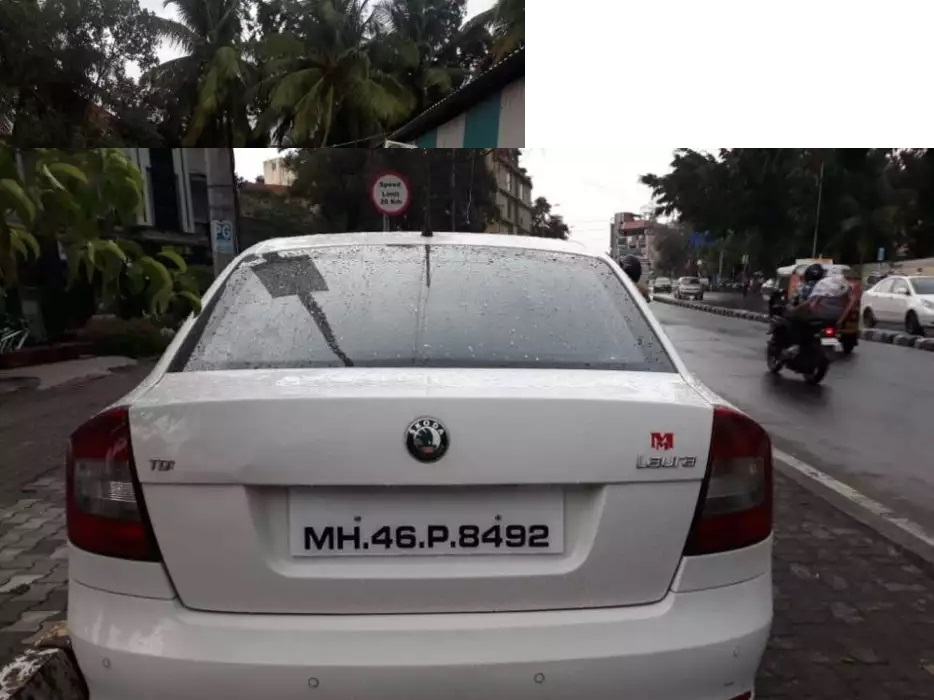licenseplate: (285, 484, 568, 557)
